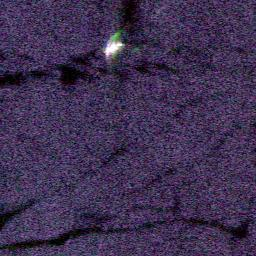Ship: (102, 36, 125, 57)
